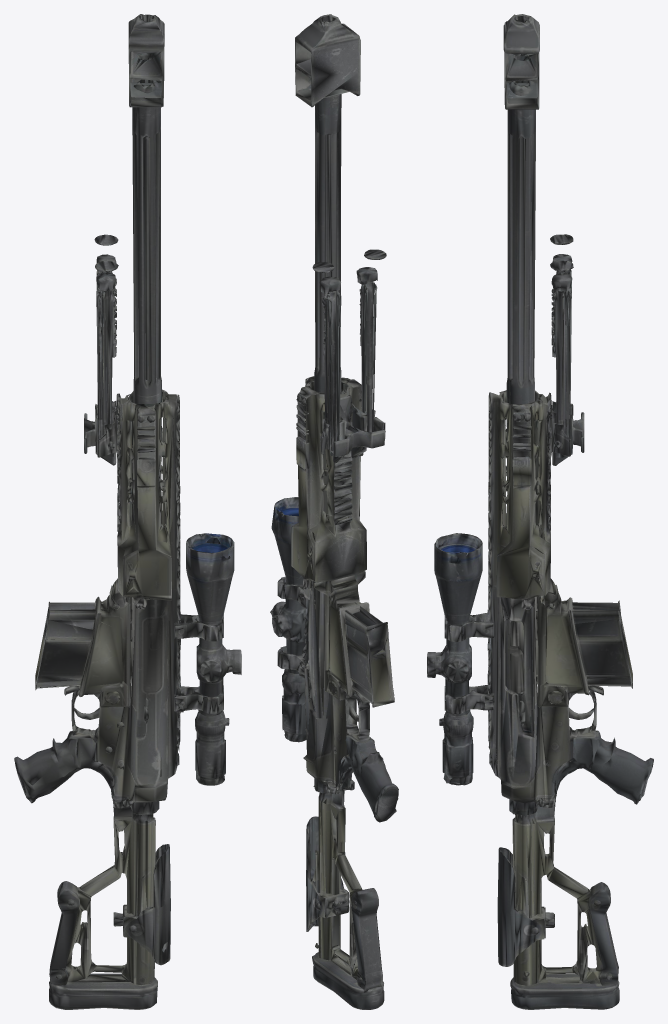
File: sniper.glb
3 views of the same model, side by side, from view 1: azimuth 90°, elevation 25°; view 2: azimuth 210°, elevation 25°; view 3: azimuth 270°, elevation 25° (orthographic). The views are drawn at different scales.
Parts seen in each view (by area): view 1: Mesh_0; view 2: Mesh_0; view 3: Mesh_0.
Part boxes in pixels (box(x1,y1,x2,y2)): Mesh_0: box(14, 14, 241, 1009); Mesh_0: box(270, 14, 398, 1009); Mesh_0: box(427, 14, 653, 1009).
Size of the model in its own units: 0.0966 by 1.25 by 0.2611.
1 material, 1 textured.
